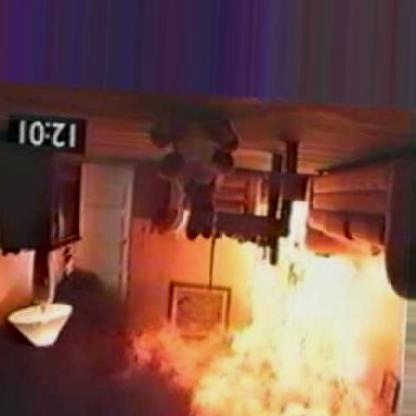fire: (170, 192, 416, 413)
